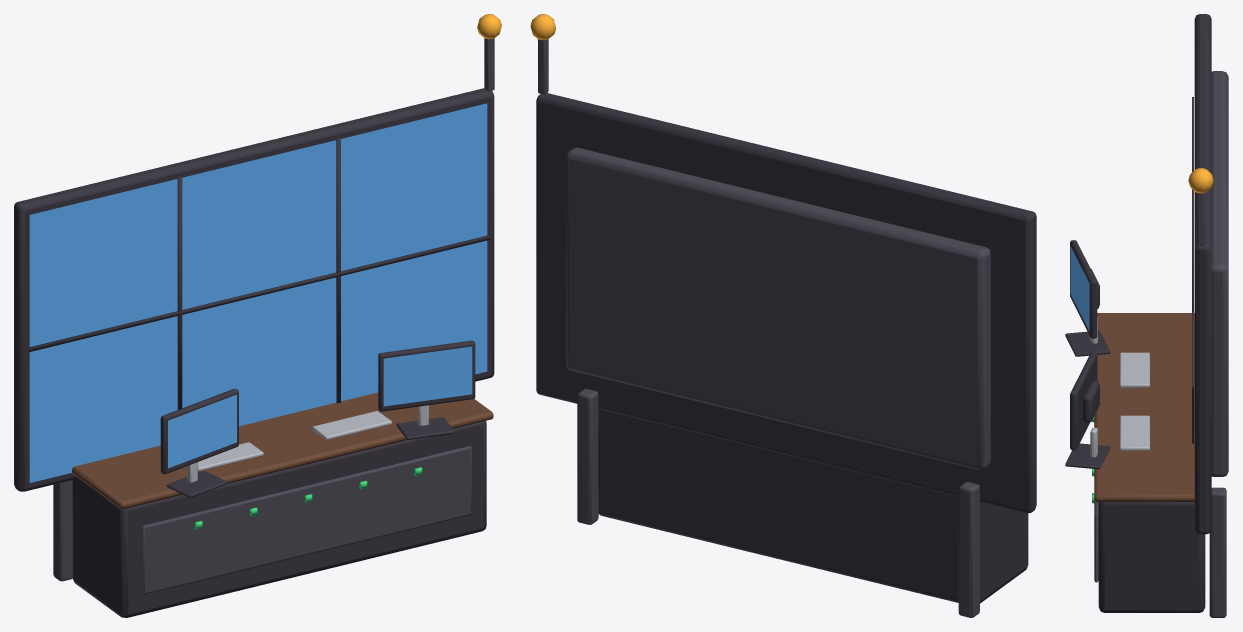
Rendered from monitoring_wall_l3.glb.
3 renders of one model, left to right at view 1: azimuth 30°, elevation 25°; view 2: azimuth 150°, elevation 25°; view 3: azimuth 270°, elevation 25°, orthographic. The views are drawn at different scales.
Parts seen in each view (by area): view 1: wall_screen, monitoring_wall_l3, wall_side1_screen, wall_side0_screen; view 2: monitoring_wall_l3; view 3: monitoring_wall_l3, wall_side0_screen, wall_beacon_led.
Boxes of the visible parts, x1,y1,x2,y2 form: wall_screen: [29, 103, 487, 482]; monitoring_wall_l3: [14, 38, 494, 617]; wall_side1_screen: [383, 346, 472, 406]; wall_side0_screen: [168, 394, 236, 468]; monitoring_wall_l3: [536, 39, 1036, 617]; monitoring_wall_l3: [1065, 14, 1228, 617]; wall_side0_screen: [1070, 246, 1089, 331]; wall_beacon_led: [1188, 168, 1213, 193].
Bounding box in the file's own units: 2.64 × 2.44 × 0.7669.
